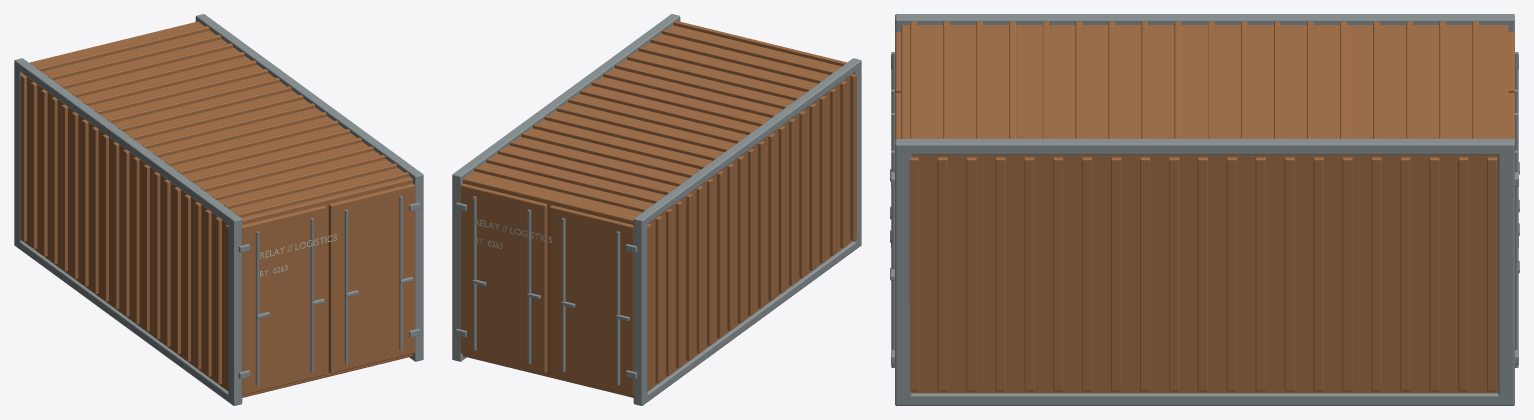
Rendered from relay-cargo.glb.
3 renders of one model, left to right at view 1: azimuth 30°, elevation 25°; view 2: azimuth 150°, elevation 25°; view 3: azimuth 270°, elevation 25°, orthographic. The views are drawn at different scales.
Parts seen in each view (by area): view 1: relay-cargo; view 2: relay-cargo; view 3: relay-cargo.
Boxes of the visible parts, <box> form: relay-cargo: <box>14,14,423,405</box>; relay-cargo: <box>452,14,861,405</box>; relay-cargo: <box>890,14,1519,405</box>.
Size of what is drawn, in the model's own units: 3 by 2.8 by 6.1.
